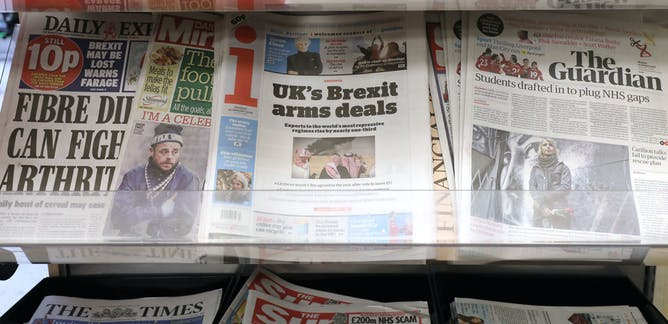news_paper: (190, 5, 469, 287), (420, 3, 668, 282), (3, 2, 225, 269), (202, 269, 441, 324), (432, 273, 658, 324), (14, 270, 223, 324)
